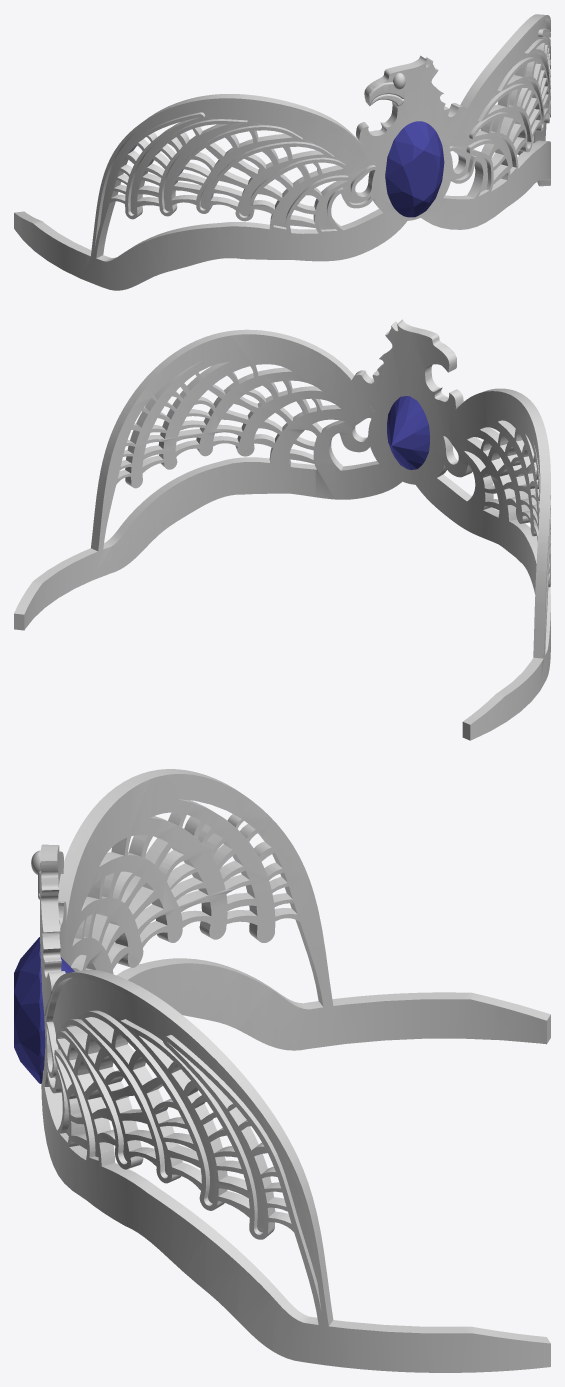
The model's file is diadem.glb.
The picture shows the model from 3 angles, top to bottom: view 1: azimuth 30°, elevation 25°; view 2: azimuth 150°, elevation 25°; view 3: azimuth 270°, elevation 25°; orthographic projection. The views are drawn at different scales.
Parts seen in each view (by area): view 1: tiara; view 2: tiara; view 3: tiara.
Boxes of the visible parts, x1,y1,x2,y2 form: tiara: [14, 14, 550, 290]; tiara: [14, 319, 550, 740]; tiara: [14, 769, 550, 1372].
Bounding box in the file's own units: 153 × 73.17 × 102.
